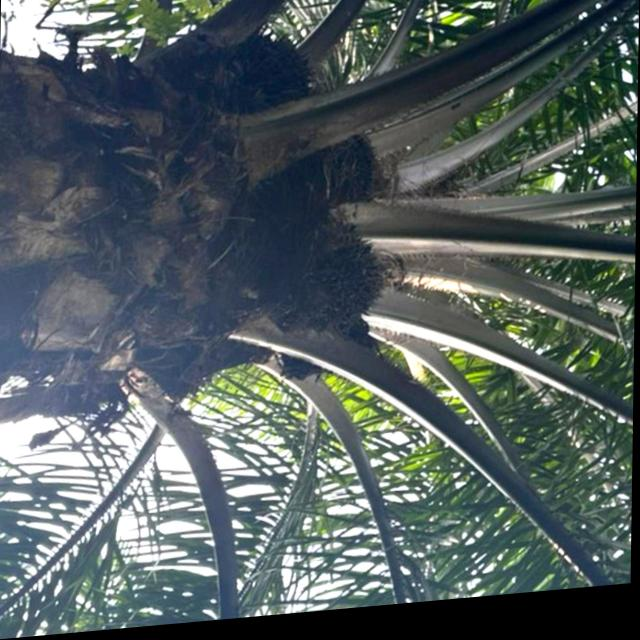unripe: (263, 236, 391, 347), (210, 24, 317, 130)
